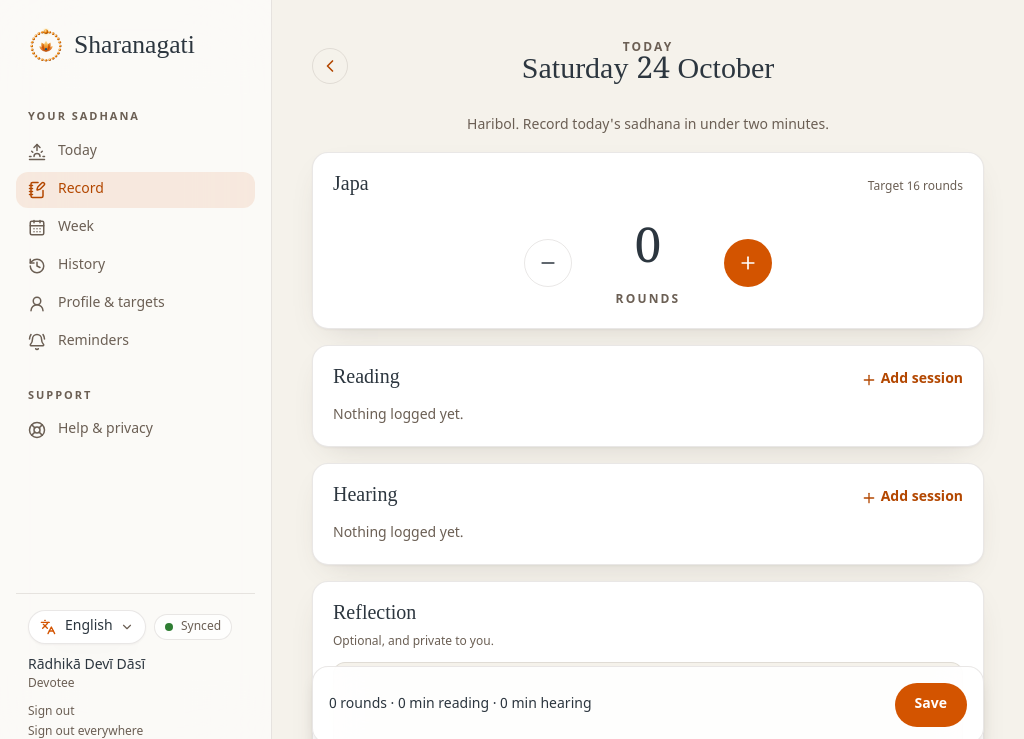
Scenario: EntryScreen › asks for a lecture and minutes before saving a session
The width and height of the screenshot is (1024, 739).
Step 1. Click the button with aria-label "Add hearing session" → (912, 498), box [861,488,963,508]
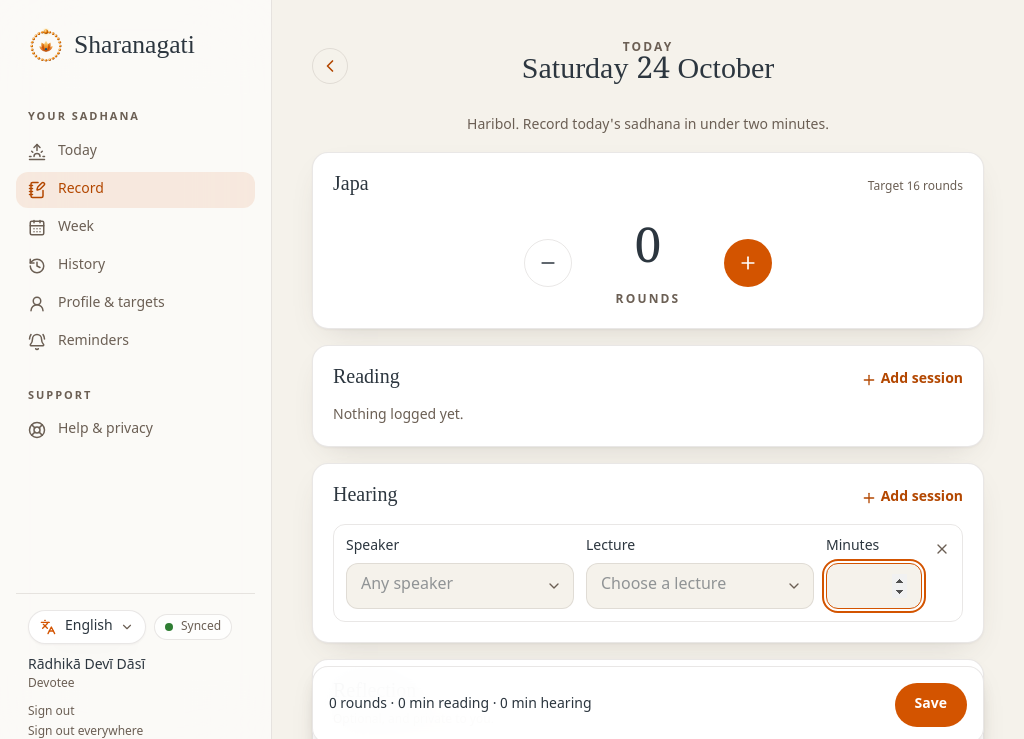
Step 2. Click the button "Save" → (931, 705), box [895,683,967,727]
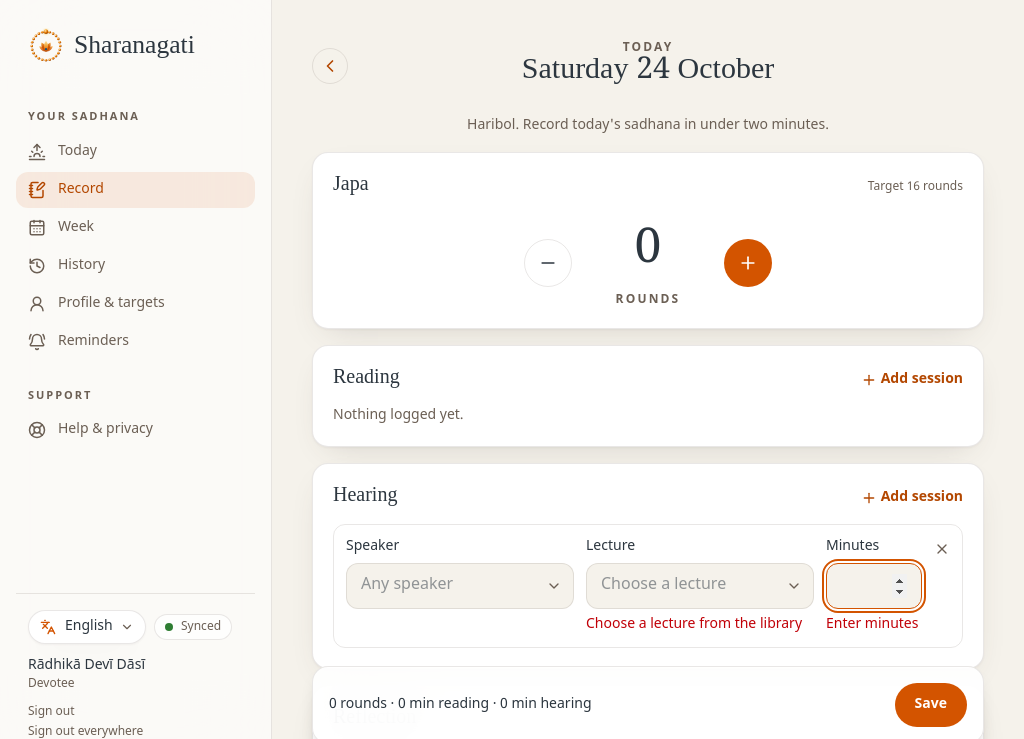
Now the text "Choose a lecture from the library" is shown, box [586,615,814,635]
Now the text "Enter minutes" is shown, box [826,615,922,635]
